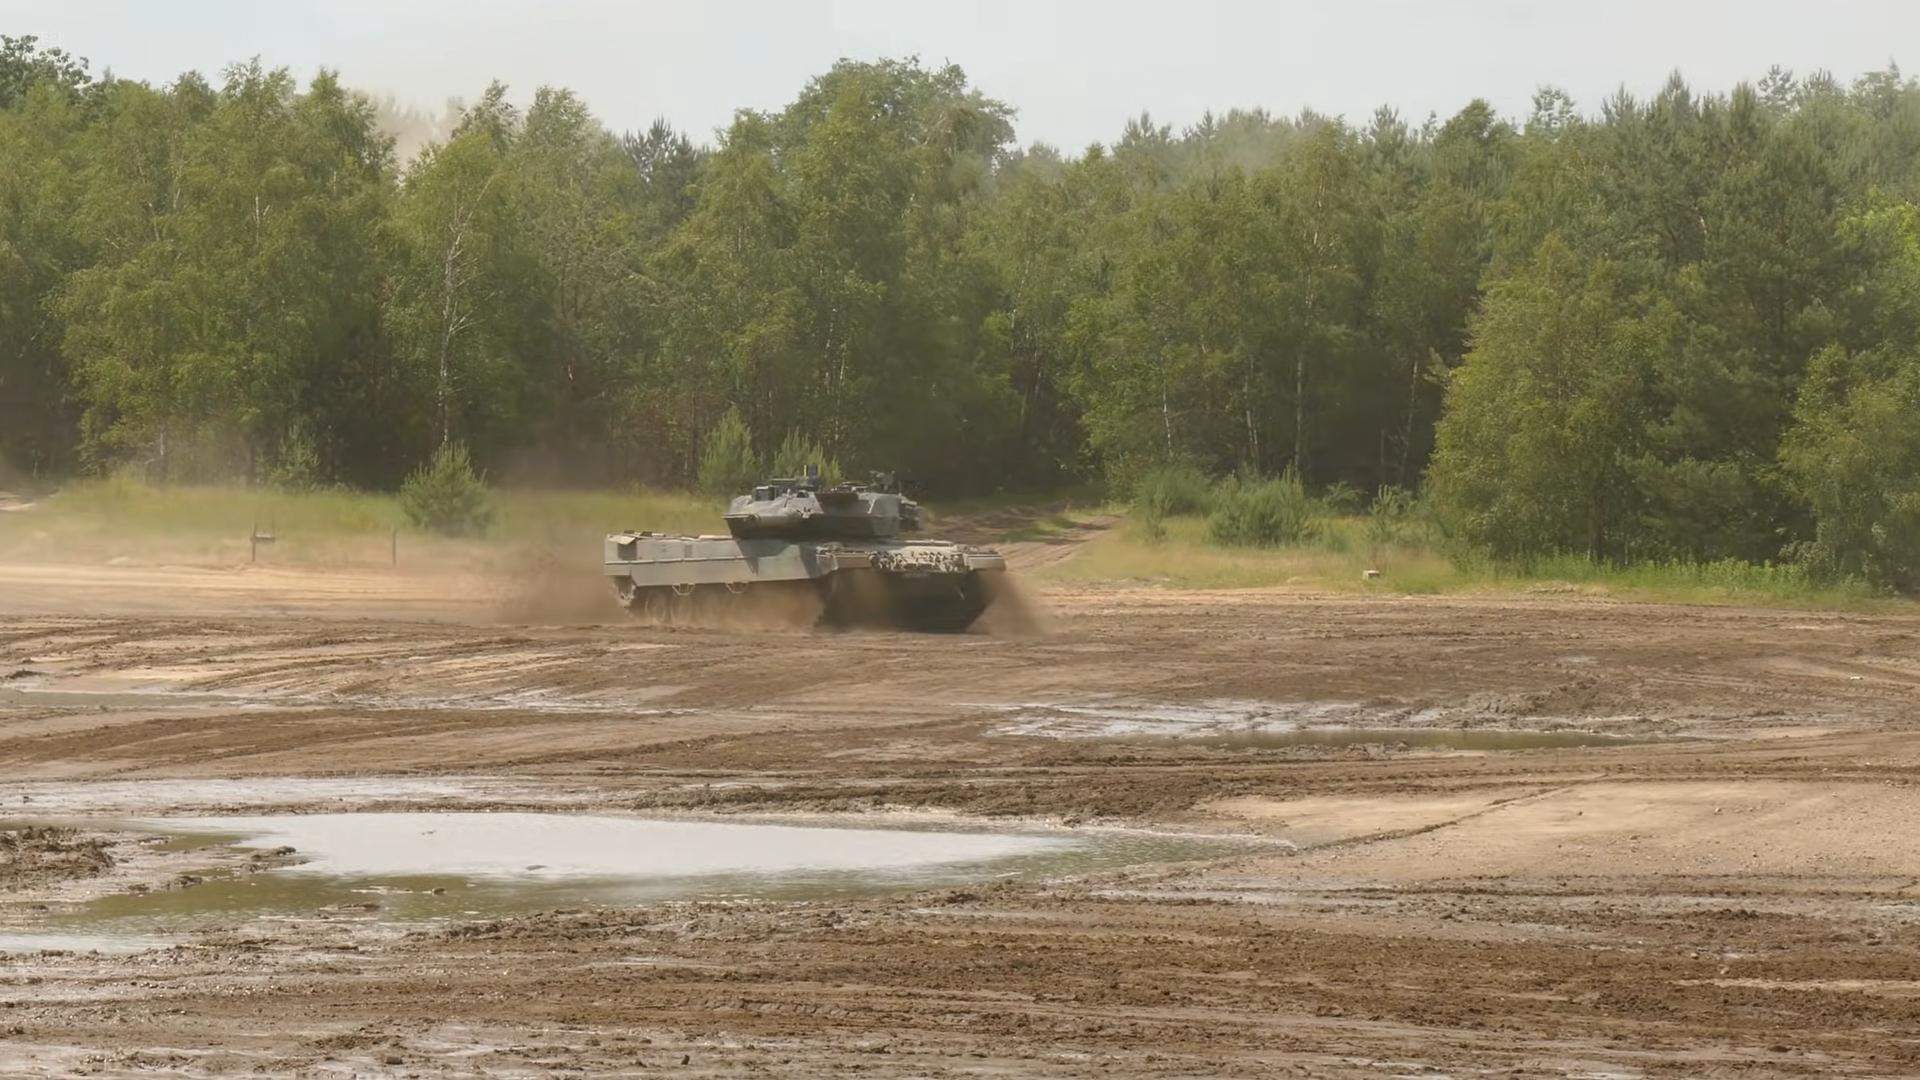tank: (604, 462, 1007, 636)
